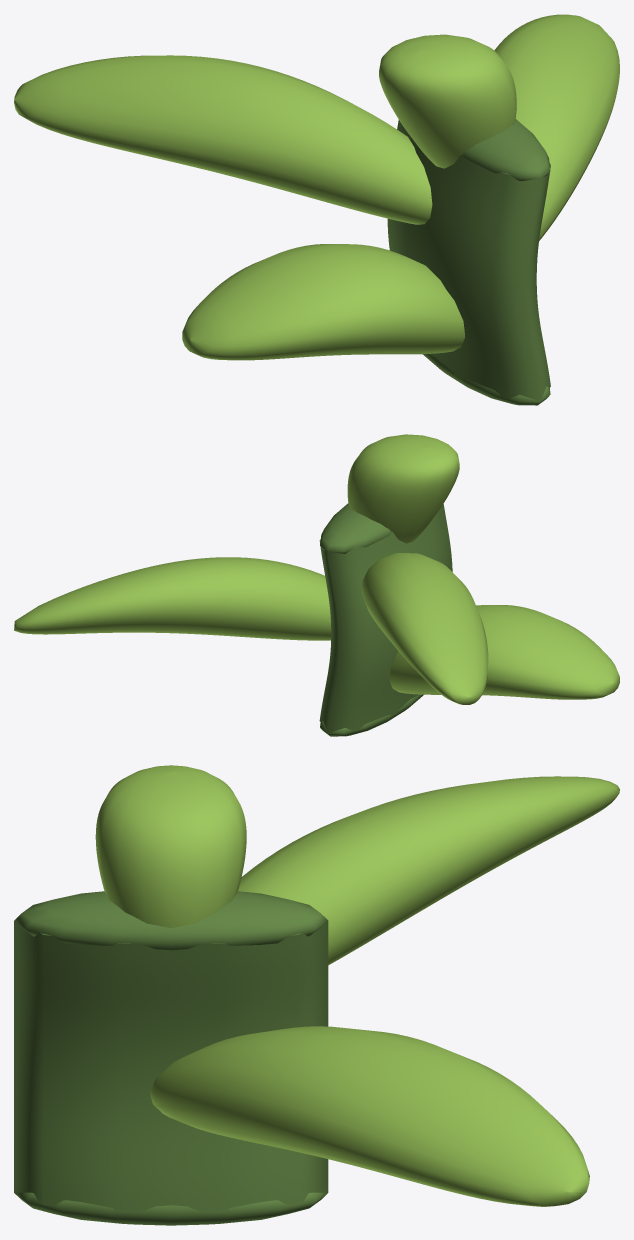
The model's file is crop_5_stage_1.fbx.
The picture shows the model from 3 angles, top to bottom: view 1: azimuth 30°, elevation 25°; view 2: azimuth 150°, elevation 25°; view 3: azimuth 270°, elevation 25°; orthographic projection. The views are drawn at different scales.
Parts seen in each view (by area): view 1: crop_5_stage_1; view 2: crop_5_stage_1; view 3: crop_5_stage_1.
Boxes of the visible parts, x1,y1,x2,y2 form: crop_5_stage_1: (14,14,619,405); crop_5_stage_1: (14,434,619,736); crop_5_stage_1: (14,765,619,1225).
Bounding box in the file's own units: 0.32 × 0.18 × 0.24.
Materials: 1 (1 with a texture image).
